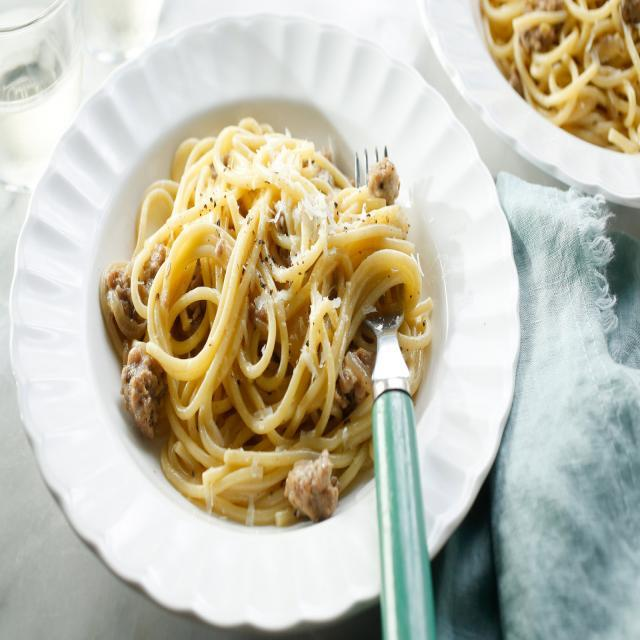Pasta with carbonara sauce: (101, 79, 468, 509)
